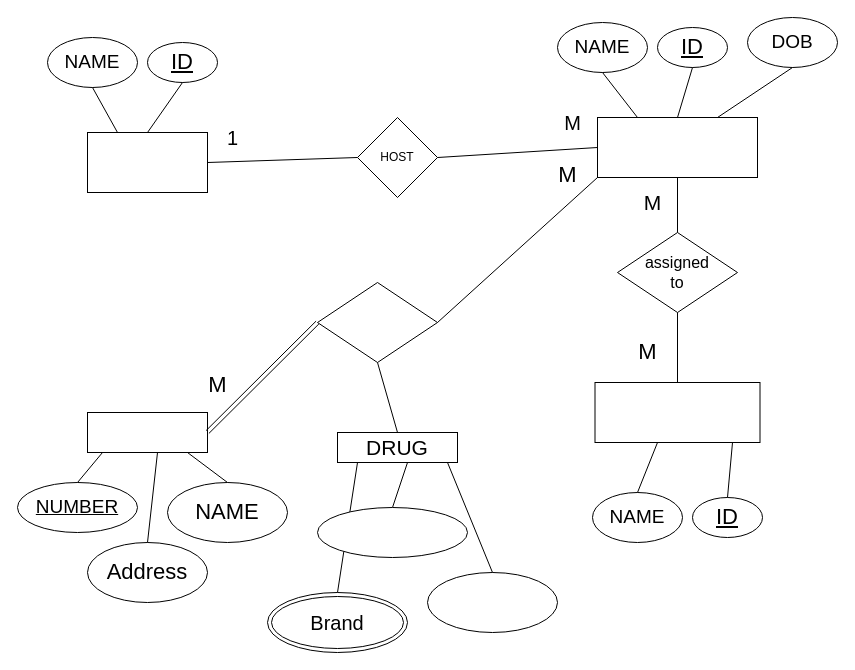
Some shapes in this 855 by 670 pixel diagram are drawn without their labels. The centre of each missing label's shape, as x and y in pixels:
"Code Number" belongs at (392,532).
"Consultant" belongs at (677,412).
"GIVE" belongs at (377,322).
"NURSES" belongs at (147,432).
"PAITENTS" belongs at (677,147).
"Recommended Dose" belongs at (492,602).
"wards" belongs at (147,162).
